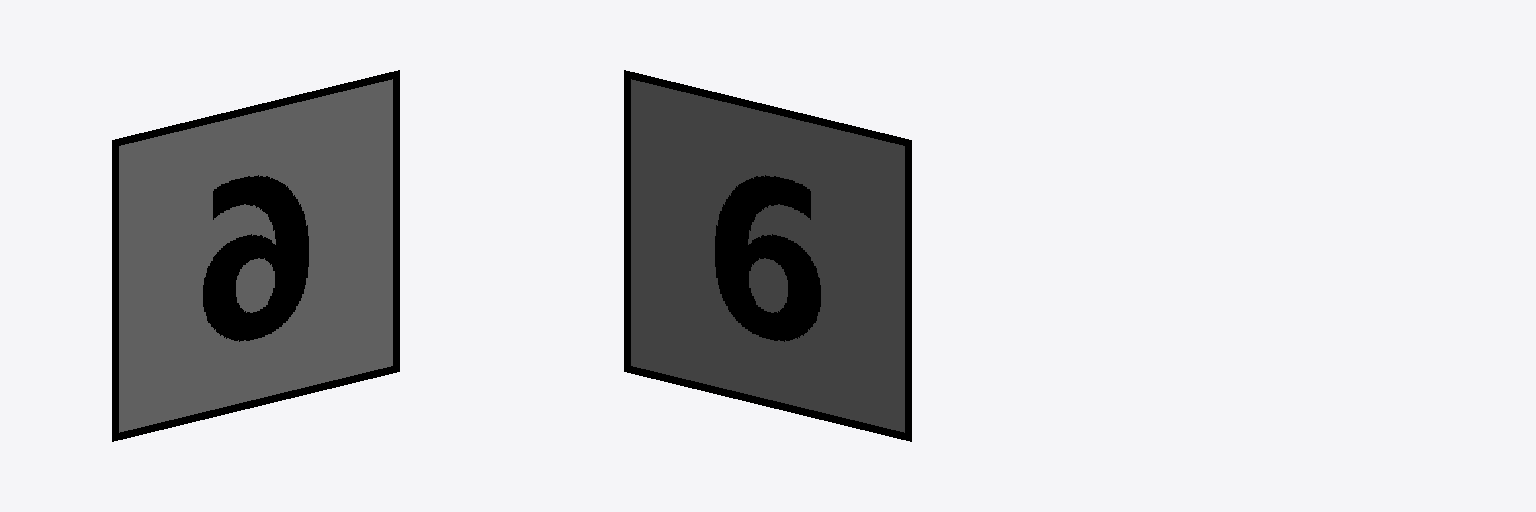
The picture shows the model from 3 angles: view 1: azimuth 30°, elevation 25°; view 2: azimuth 150°, elevation 25°; view 3: azimuth 270°, elevation 25°; orthographic projection.
Parts seen in each view (by area): view 1: 平面.001; view 2: 平面.001; view 3: none.
Part boxes in pixels (x1,y1,x2,y2): 平面.001: (112,70,399,441); 平面.001: (624,70,911,441).
Bounding box in the file's own units: 2 × 2 × 0.
1 materials, 1 textured.